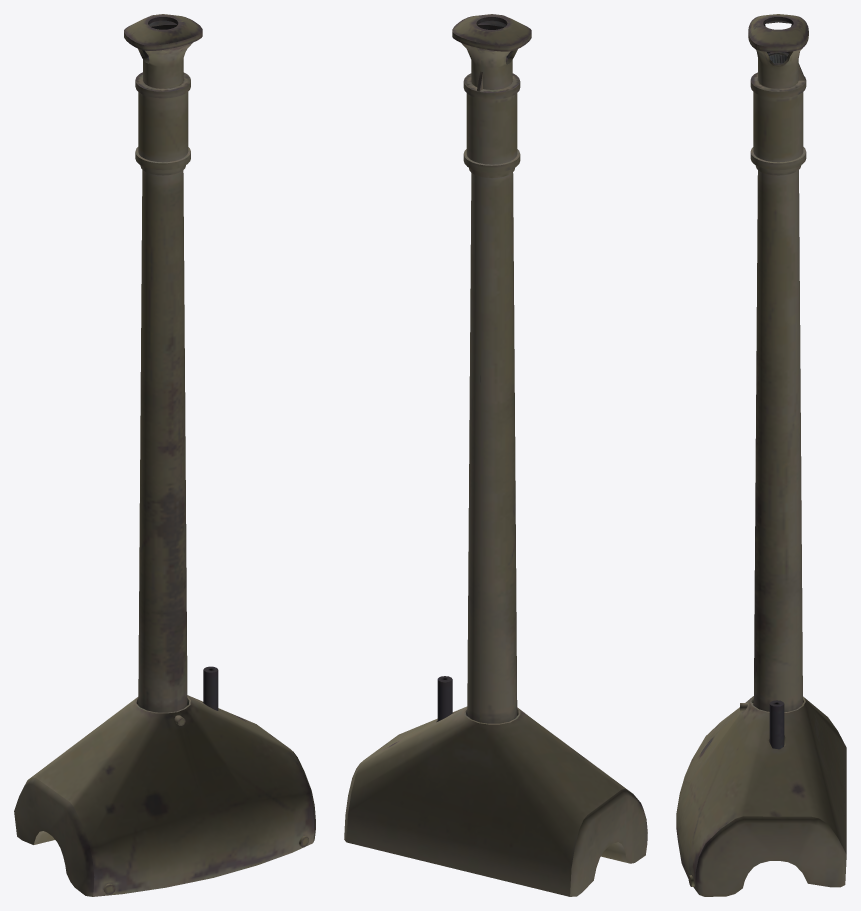
Rendered from Gun_04.glb.
The picture shows the model from 3 angles, left to right: view 1: azimuth 30°, elevation 25°; view 2: azimuth 150°, elevation 25°; view 3: azimuth 270°, elevation 25°; orthographic projection.
Parts seen in each view (by area): view 1: set_0_group_0; view 2: set_0_group_0; view 3: set_0_group_0.
Part boxes in pixels (x1=…): set_0_group_0: x1=14, y1=14, x2=315, y2=896; set_0_group_0: x1=344, y1=14, x2=647, y2=896; set_0_group_0: x1=676, y1=14, x2=846, y2=896.
Bounding box in the file's own units: 0.9304 × 3.14 × 0.593.
Materials: 1 (1 with a texture image).
